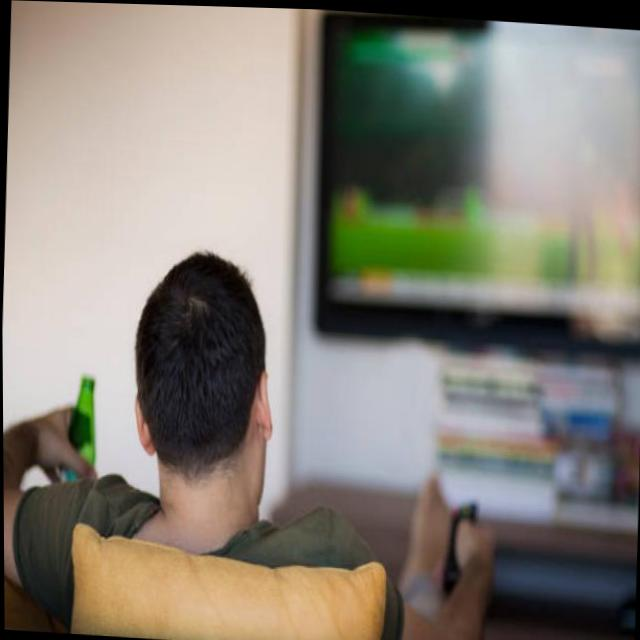no helmet: (129, 259, 281, 538)
